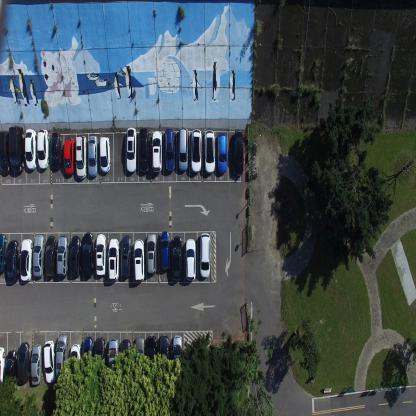car: (9, 124, 24, 174), (55, 332, 69, 378), (42, 339, 56, 383), (94, 336, 106, 385), (82, 335, 94, 384), (17, 340, 30, 385), (6, 238, 19, 283), (126, 127, 138, 175), (199, 231, 211, 279), (82, 230, 94, 278), (19, 238, 32, 282), (70, 342, 82, 389), (190, 128, 202, 174), (120, 233, 132, 279), (158, 334, 170, 380), (75, 134, 87, 180), (36, 128, 49, 170), (108, 236, 120, 281), (56, 235, 69, 276), (108, 336, 119, 384), (30, 342, 42, 386), (4, 349, 16, 393), (33, 234, 45, 278), (139, 126, 150, 173), (171, 235, 182, 282), (25, 128, 37, 171), (232, 130, 243, 176), (164, 127, 175, 172), (151, 129, 162, 173), (204, 129, 215, 173), (185, 237, 196, 281), (120, 338, 131, 382), (45, 234, 56, 278), (50, 132, 62, 172), (70, 234, 81, 277), (172, 334, 182, 381), (216, 132, 227, 174), (134, 336, 145, 378), (134, 237, 144, 283), (178, 126, 188, 172), (146, 334, 156, 379), (96, 233, 106, 278), (99, 135, 111, 172), (87, 134, 97, 178), (63, 136, 74, 176), (0, 130, 10, 173), (146, 232, 156, 274), (160, 229, 170, 271), (0, 232, 7, 274), (0, 345, 5, 392)
